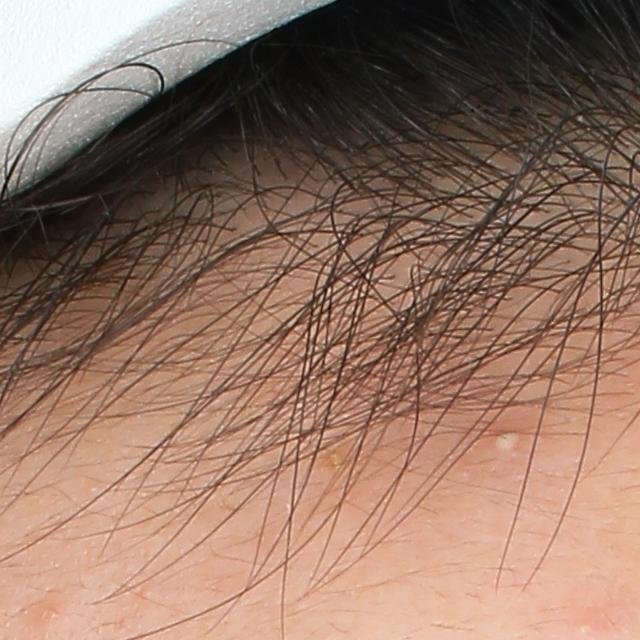pustule: (488, 424, 523, 453)
